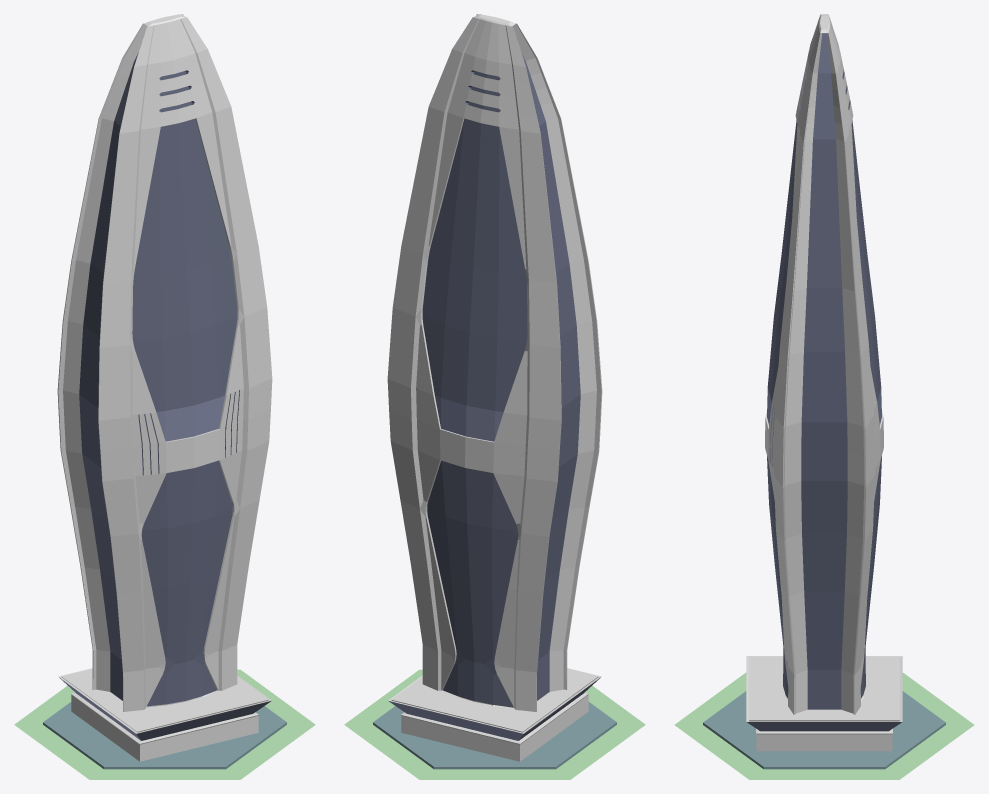
The model's file is npc_finance_company.fbx.
3 views of the same model, side by side, from view 1: azimuth 30°, elevation 25°; view 2: azimuth 150°, elevation 25°; view 3: azimuth 270°, elevation 25° (orthographic).
Parts seen in each view (by area): view 1: 立方体.009; view 2: 立方体.009; view 3: 立方体.009.
Boxes of the visible parts, bbox=[...] form: 立方体.009: bbox=[14, 14, 315, 779]; 立方体.009: bbox=[344, 14, 645, 779]; 立方体.009: bbox=[674, 14, 974, 779].
Size of the model in its own units: 165 by 490 by 190.
